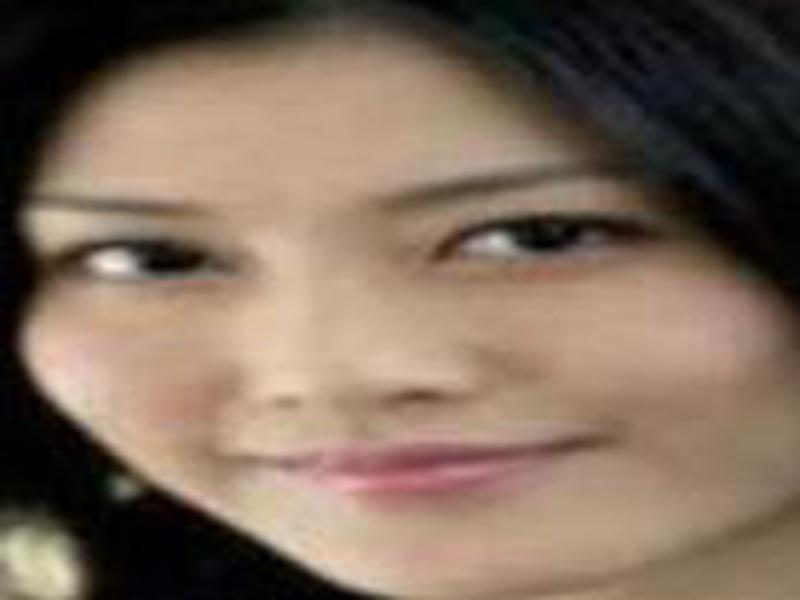without_mask: (17, 91, 765, 587)
